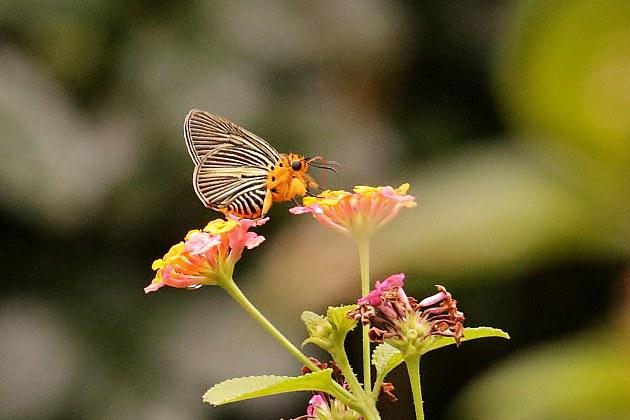Hesperiidae: (182, 107, 337, 223)
